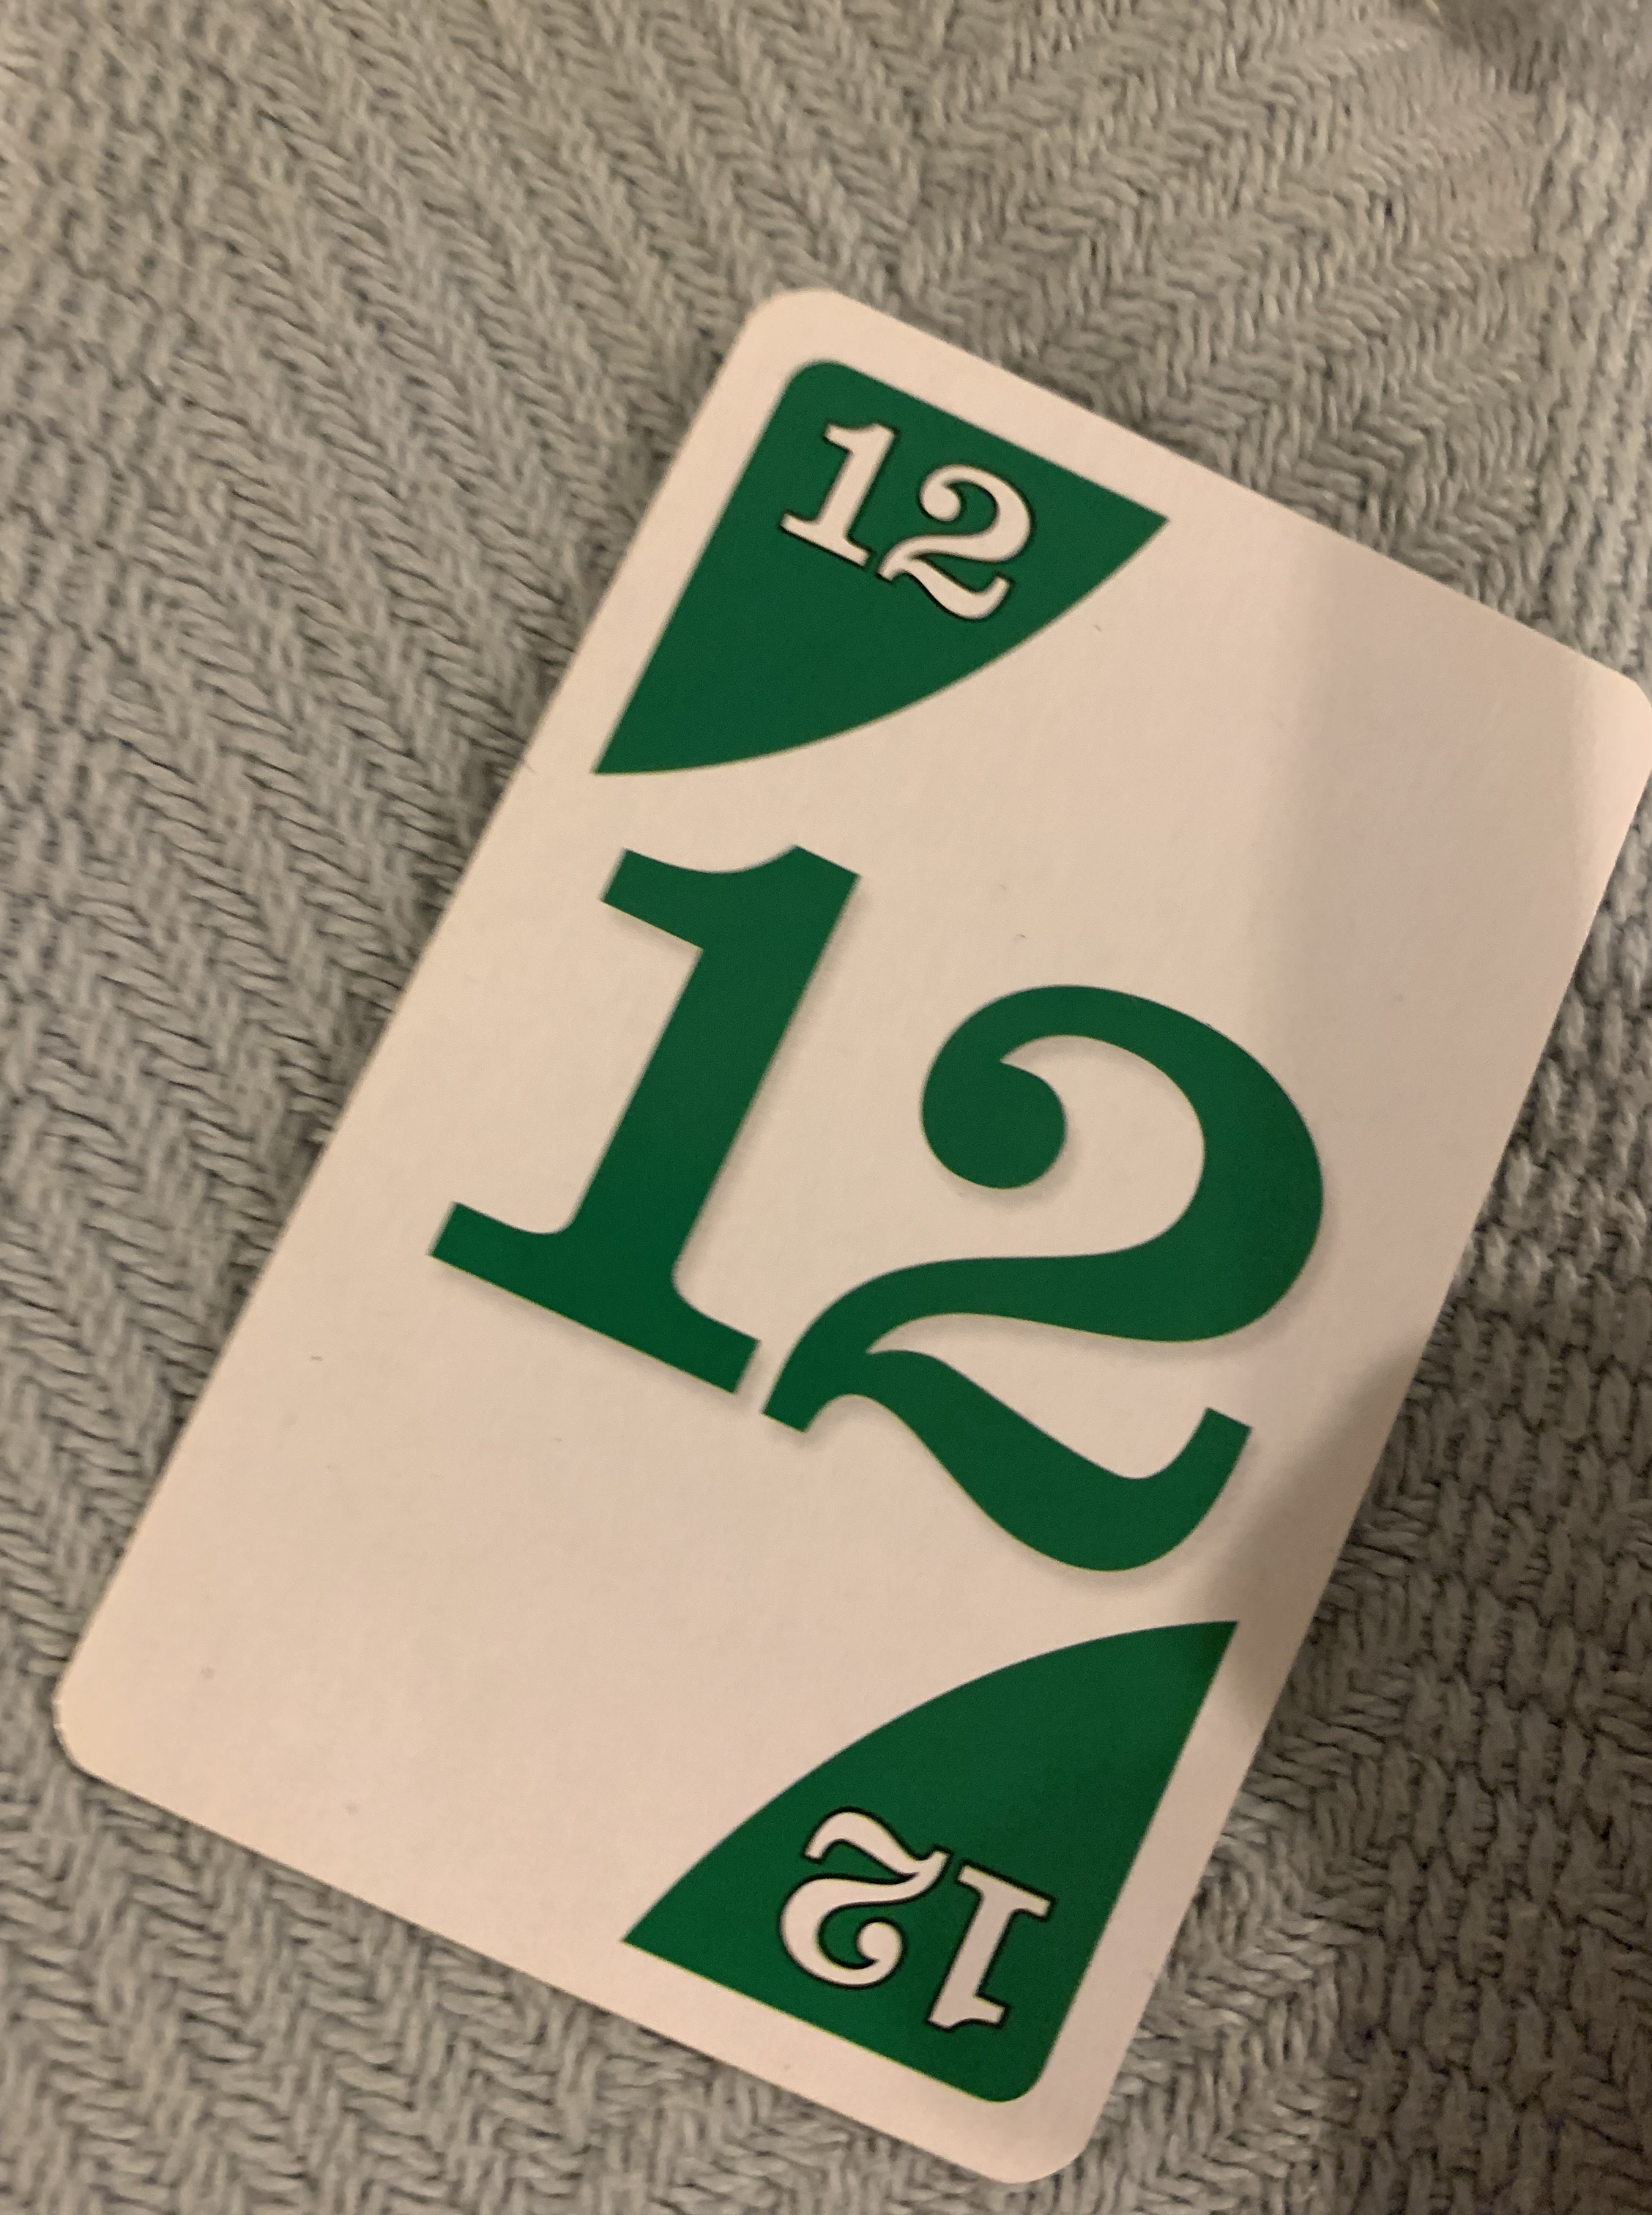twelve: (36, 271, 1652, 2172)
